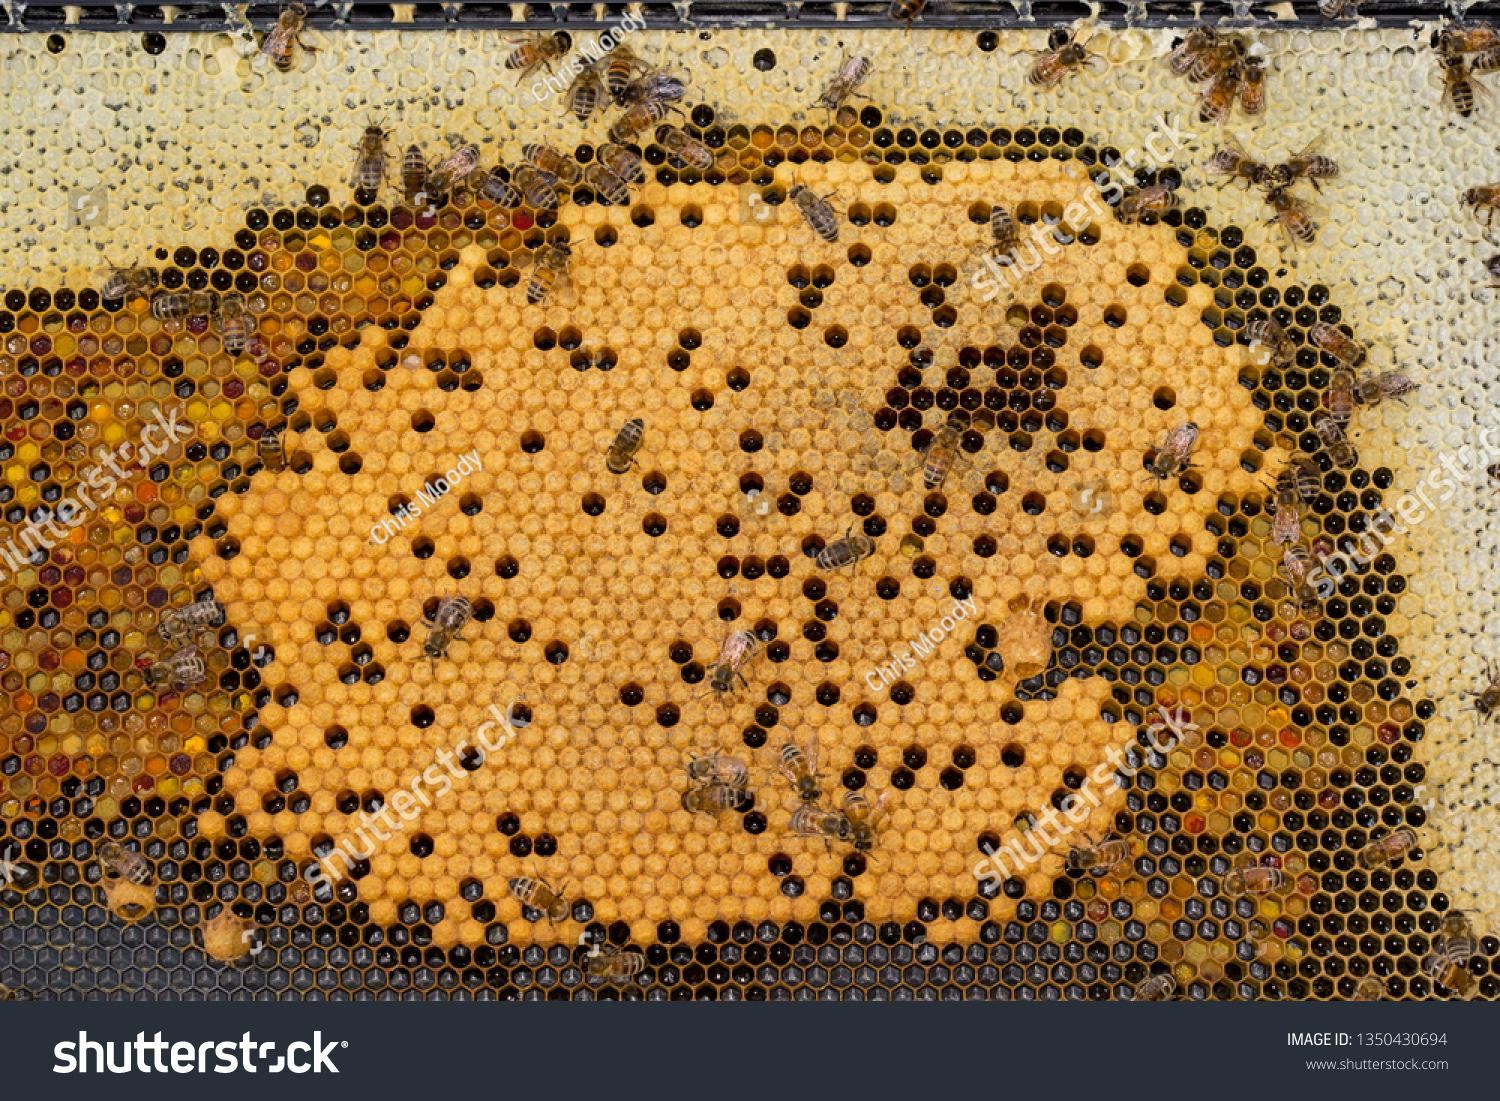bee: (1260, 188, 1314, 241), (922, 419, 962, 489), (526, 240, 568, 305), (712, 630, 756, 692), (1153, 416, 1195, 480), (423, 598, 467, 658), (98, 840, 155, 885), (507, 876, 565, 920), (426, 144, 474, 198), (1314, 410, 1357, 468), (157, 601, 226, 637), (1281, 544, 1317, 612), (790, 185, 835, 239), (1308, 320, 1363, 365), (1200, 68, 1243, 123), (821, 57, 869, 106), (1168, 24, 1215, 75), (610, 98, 663, 142), (150, 288, 221, 320), (1191, 41, 1245, 84), (840, 790, 878, 849), (780, 743, 820, 799), (273, 5, 306, 70), (504, 36, 565, 72), (99, 266, 158, 302), (1030, 42, 1087, 79), (659, 129, 714, 168), (523, 143, 579, 181), (1279, 150, 1338, 185), (1244, 319, 1293, 361), (510, 167, 558, 209), (608, 418, 644, 473), (1062, 839, 1127, 869), (1360, 832, 1418, 866), (684, 784, 748, 814), (597, 143, 646, 183), (1423, 958, 1477, 994), (219, 290, 248, 357), (691, 756, 752, 786), (1209, 149, 1266, 182), (989, 205, 1023, 260), (1443, 905, 1473, 966), (581, 948, 646, 976), (468, 169, 518, 205), (788, 807, 848, 838), (818, 536, 873, 567), (586, 163, 629, 204), (1329, 362, 1357, 424), (1292, 447, 1323, 502), (615, 79, 685, 104), (144, 657, 204, 685), (1273, 481, 1300, 543), (1436, 24, 1500, 50), (1227, 867, 1283, 896), (360, 125, 384, 191), (1119, 190, 1180, 217), (1133, 972, 1179, 1005), (572, 61, 597, 120), (1443, 57, 1467, 114), (1243, 54, 1265, 117), (1359, 375, 1408, 403), (1472, 668, 1500, 715), (404, 142, 426, 202), (608, 45, 634, 93), (1350, 973, 1382, 1009), (1460, 184, 1500, 211), (260, 432, 288, 467), (1469, 55, 1500, 72)
drone: (891, 0, 932, 17)
